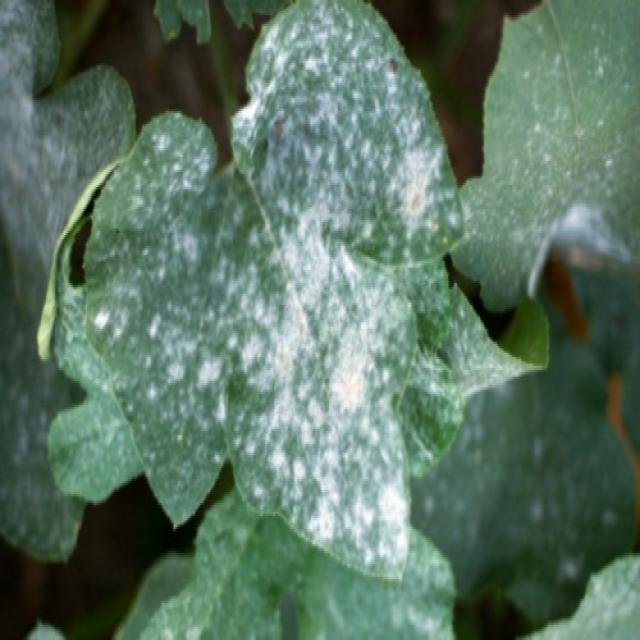Powdery Mildew: (95, 64, 446, 566)
